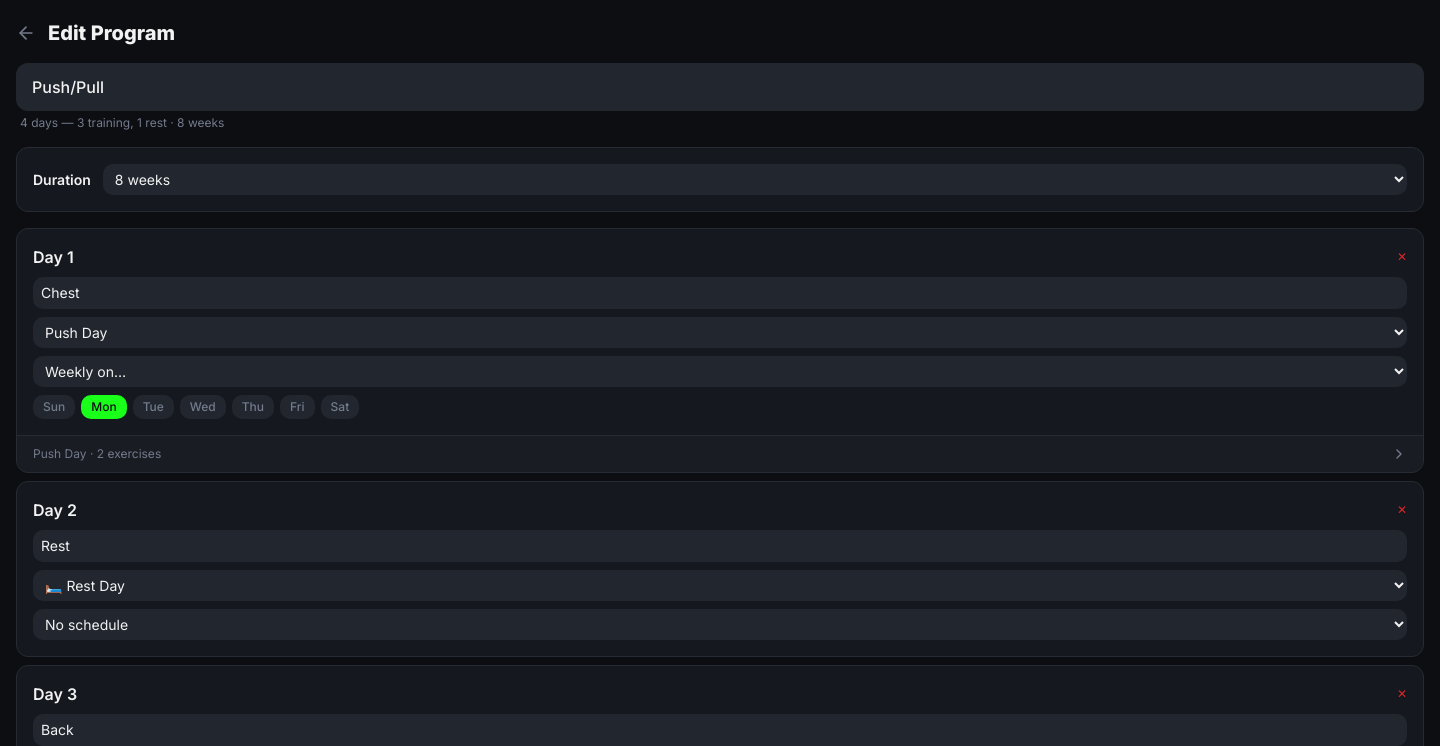
Scenario: editing a template inside its tile › discards an unsaved edit and puts the saved template back
Click the button "Push Day · 2 exercises" at {"x": 60, "y": 454}, box x1=17 y1=435 x2=1423 y2=472
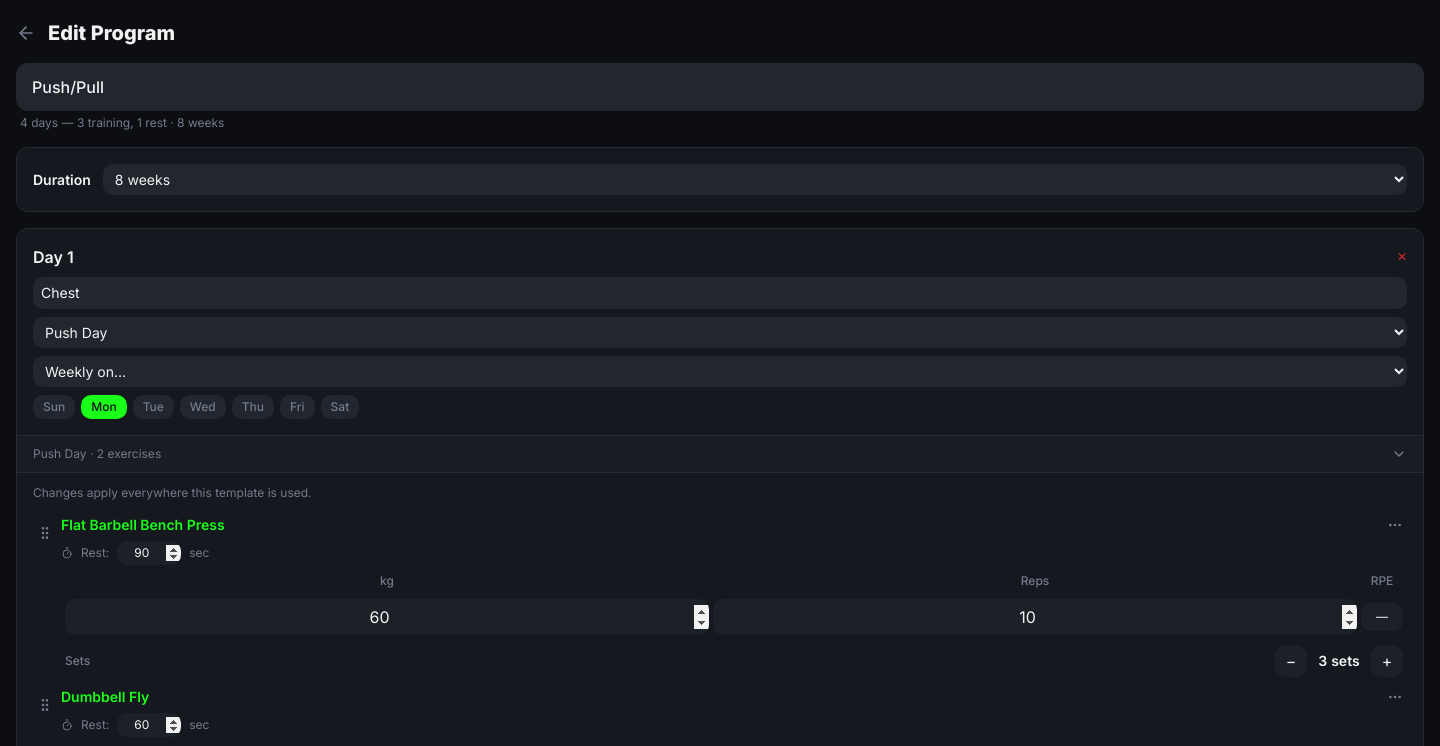
Replace the text in the 3rd number field with placeholder "—" with "8" at {"x": 1035, "y": 617}, box x1=713 y1=599 x2=1357 y2=635
(page scrolled)
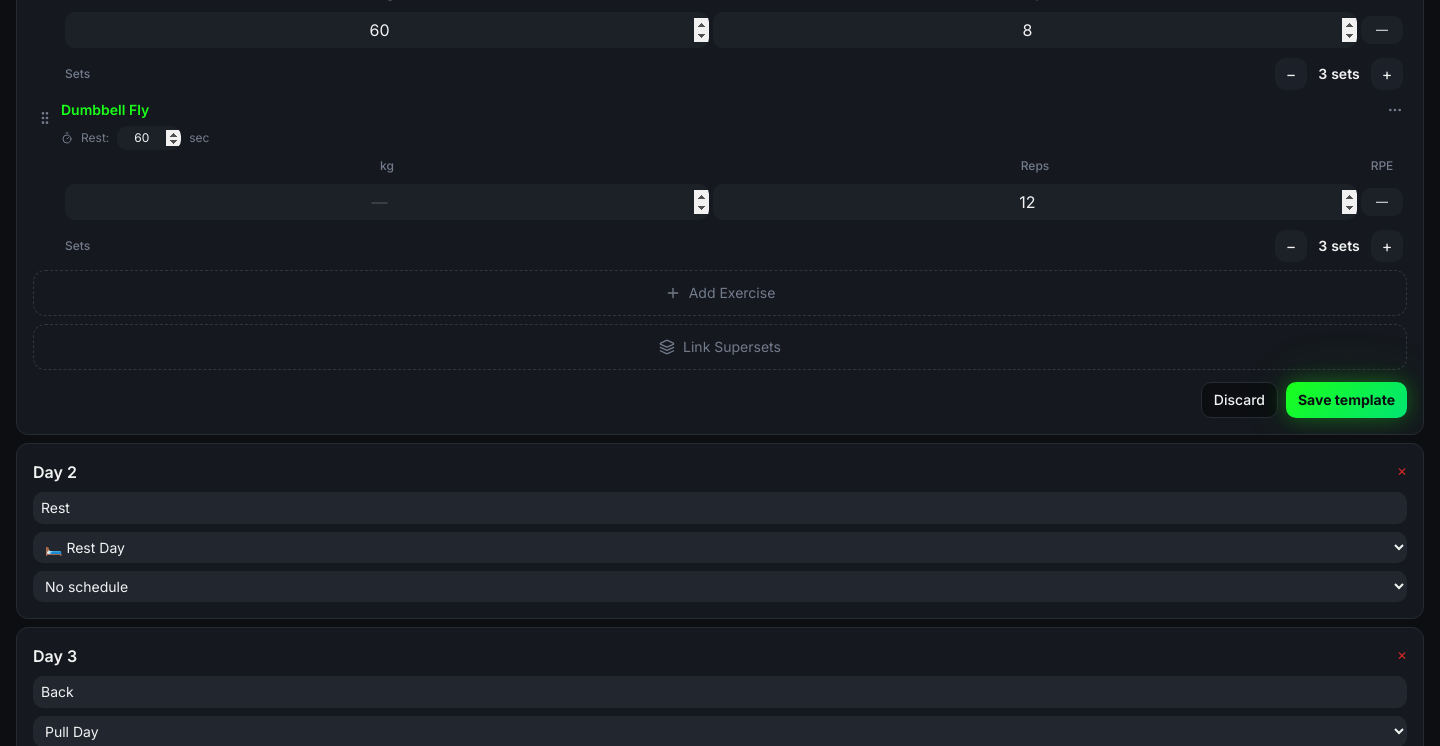
Click the button "Discard" at {"x": 1239, "y": 400}, box x1=1201 y1=382 x2=1278 y2=418
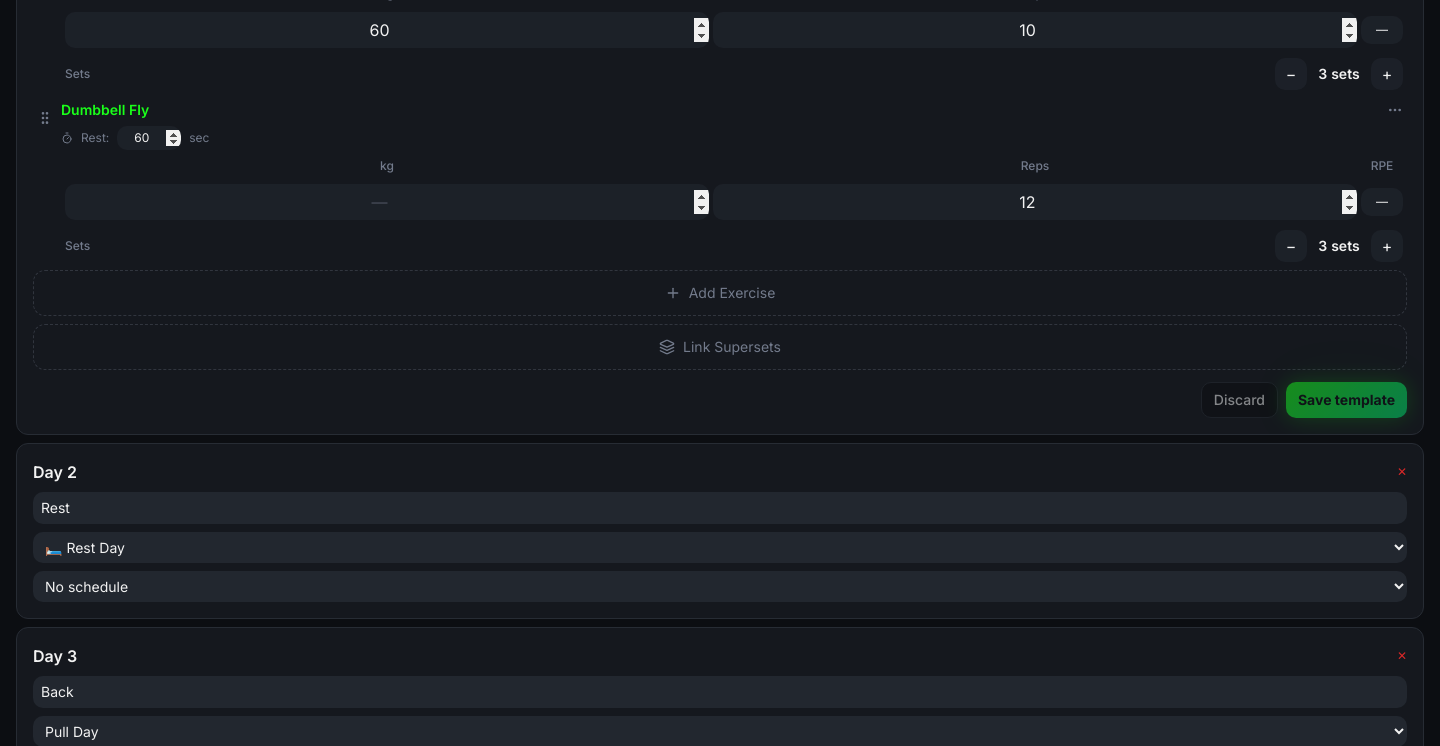
Check: the 2nd number field with placeholder "—" holds "10", box x1=713 y1=12 x2=1357 y2=48
